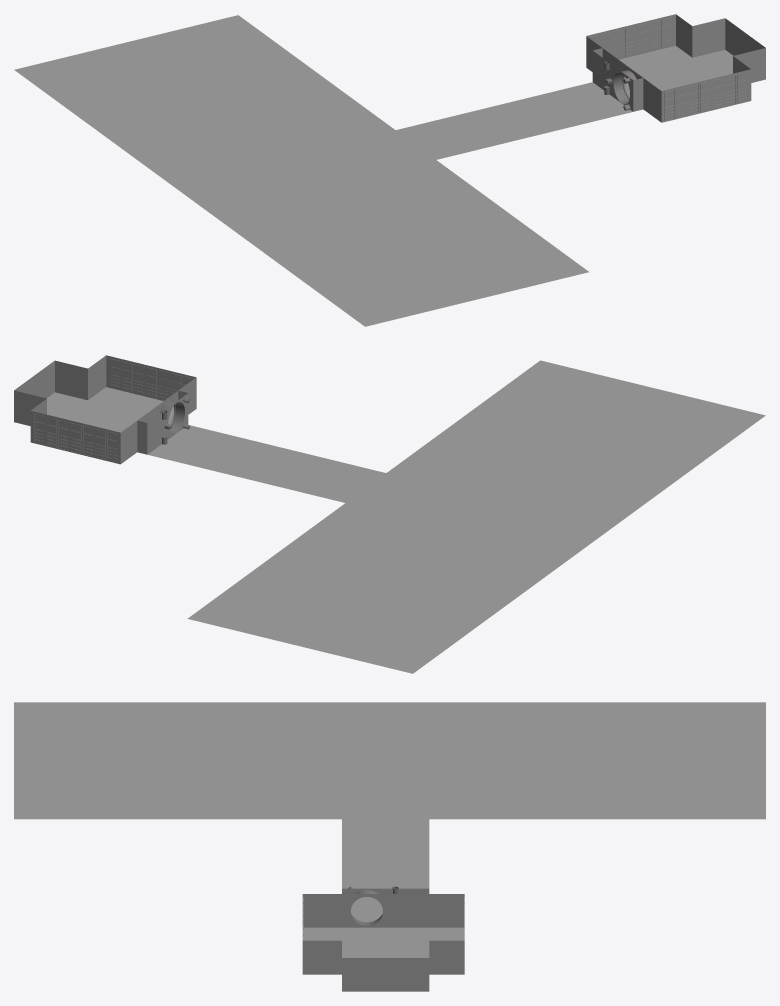
File: kluis vloer.fbx
3 renders of one model, top to bottom at view 1: azimuth 30°, elevation 25°; view 2: azimuth 150°, elevation 25°; view 3: azimuth 270°, elevation 25°, orthographic. The views are drawn at different scales.
Parts seen in each view (by area): view 1: Cube; view 2: Cube; view 3: Cube.
Part boxes in pixels (x1,y1,x2,y2): Cube: (14, 14, 765, 326); Cube: (14, 355, 765, 673); Cube: (14, 702, 765, 991).
Bounding box in the file's own units: 5506 × 309 × 6044.
